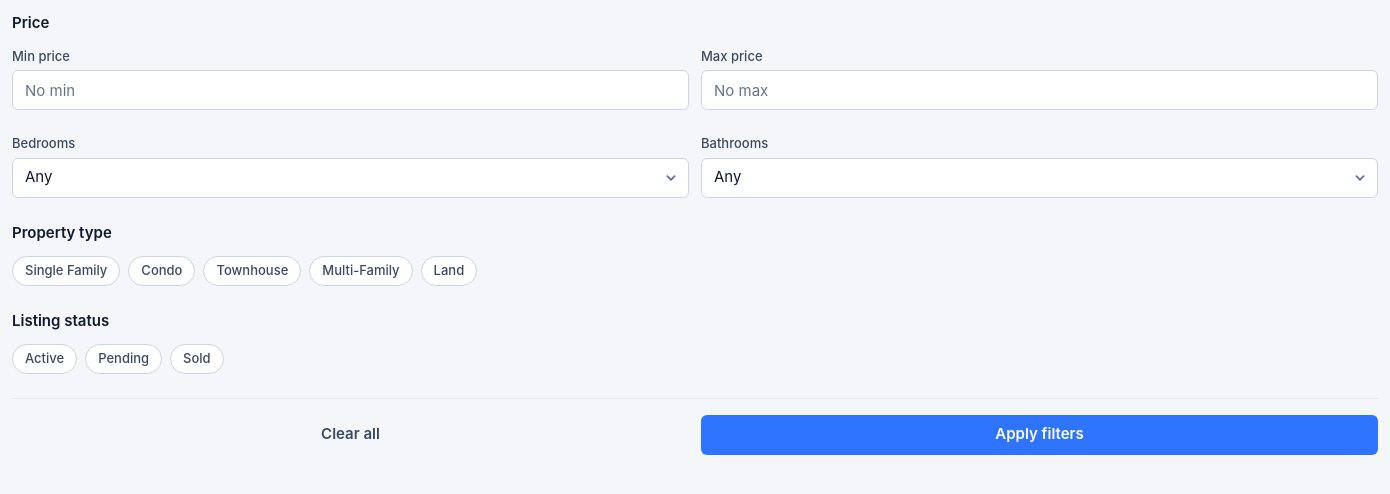
Test: FilterPanel › discards un-applied input when clearing with no active filters
Type "500000" into the number field labelled "Min price" at (350, 90), box [12,70,689,110]
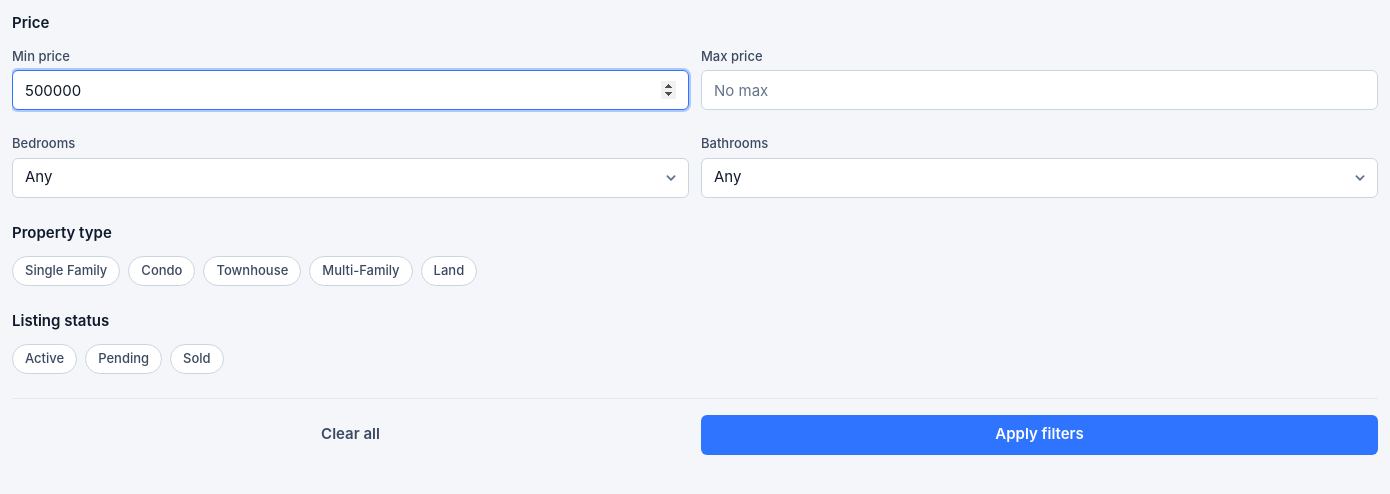
Type "100000" into the number field labelled "Max price" at (1040, 90), box [701,70,1378,110]
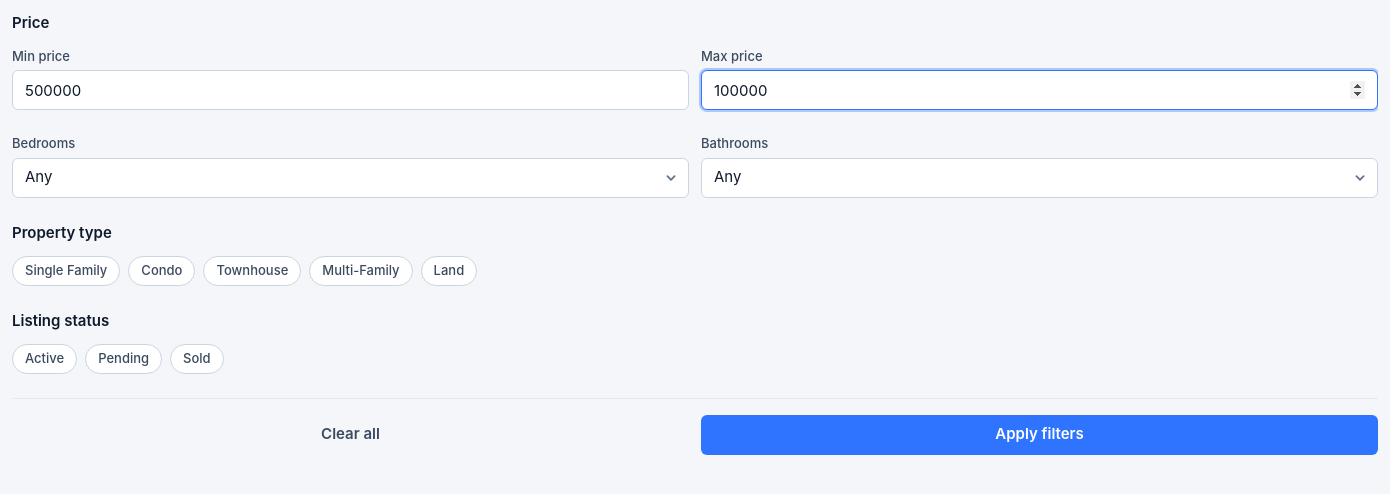
Click the button "Apply filters" at (1040, 434), box [701,414,1378,454]
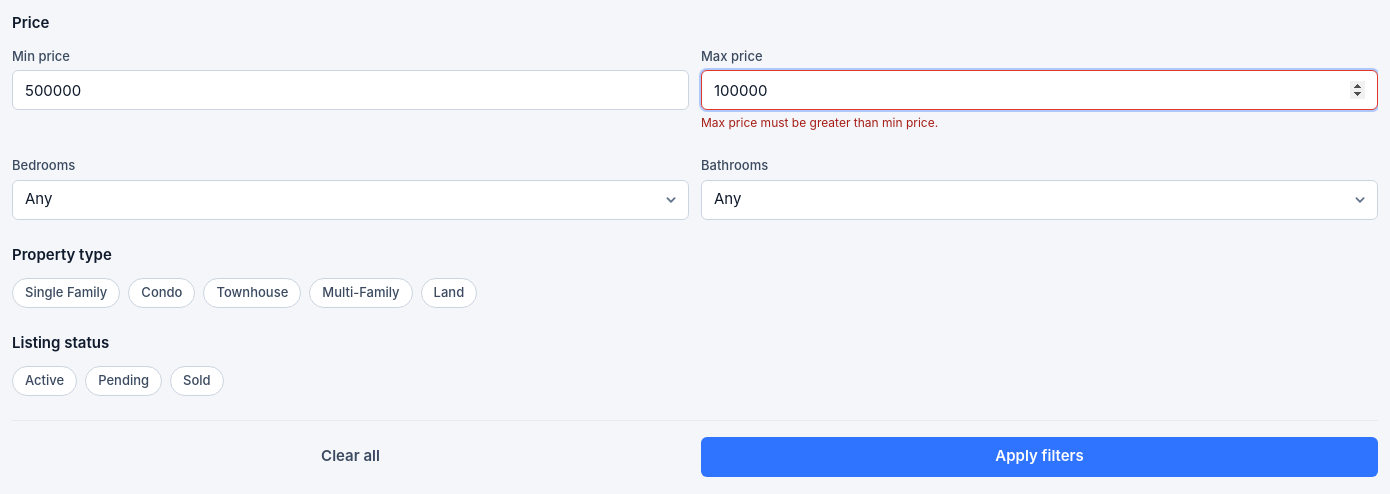
Result: the message "Max price must be greater than min price." is shown at [701,115,938,130]
Click the button "Clear all" at (350, 456), box [12,436,689,476]
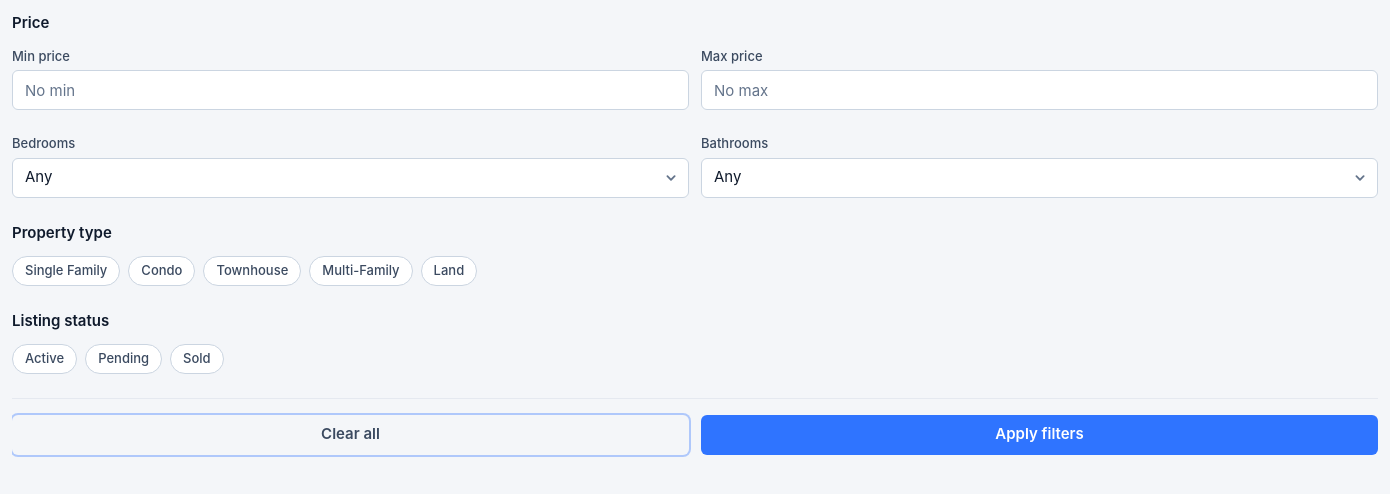
Result: the number field labelled "Min price" is not empty at [12,70,689,110]
Result: the number field labelled "Max price" is not empty at [701,70,1378,110]
Result: the message "Max price must be greater than min price." is gone
